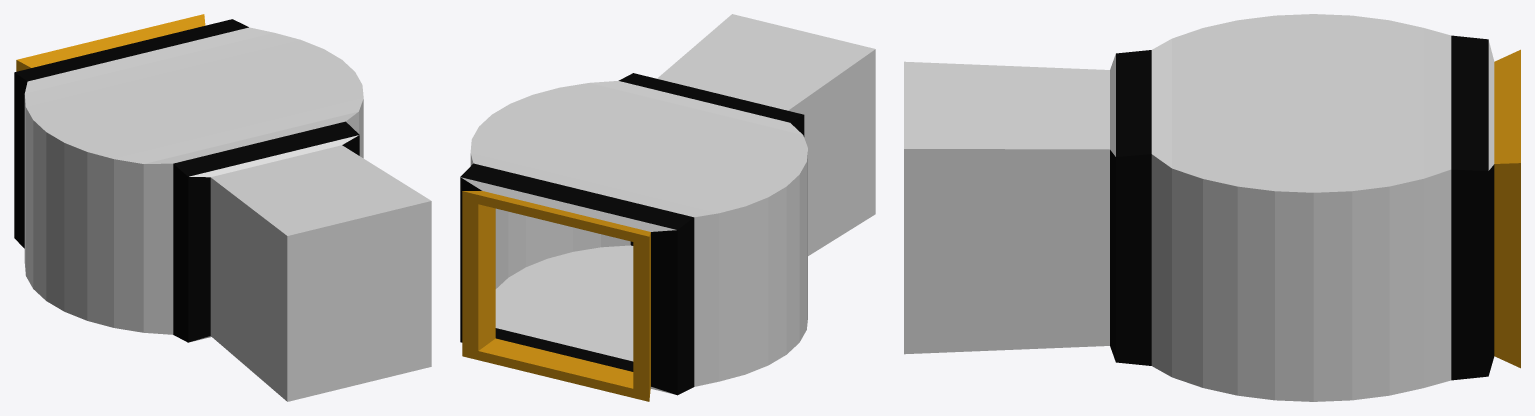
File: Reception Building.fbx
The picture shows the model from 3 angles, left to right: view 1: azimuth 30°, elevation 25°; view 2: azimuth 150°, elevation 25°; view 3: azimuth 270°, elevation 25°; orthographic projection. The views are drawn at different scales.
Parts seen in each view (by area): view 1: Cube.002; view 2: Cube.002; view 3: Cube.002.
Boxes of the visible parts, x1,y1,x2,y2 form: Cube.002: (14,14,431,401); Cube.002: (460,14,875,401); Cube.002: (904,14,1520,401).
Size of the model in its own units: 238 by 348 by 132.
